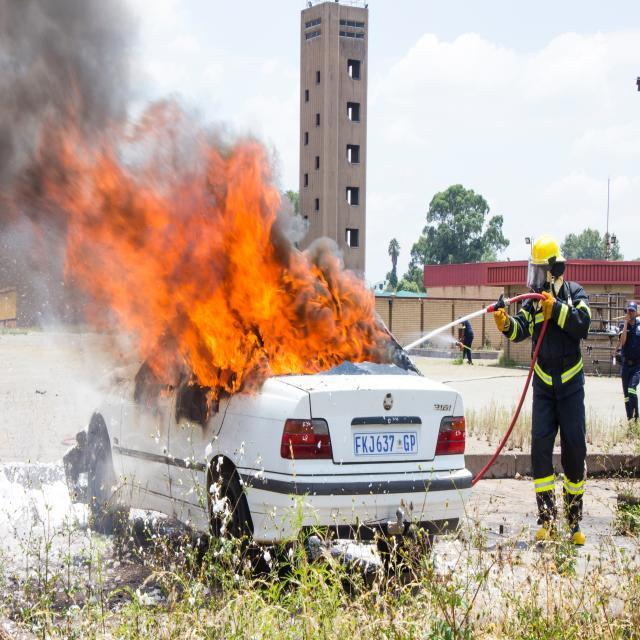Fire: (65, 128, 398, 412)
Smoke: (0, 0, 147, 221)
